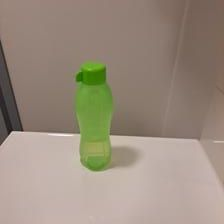bottle: (71, 61, 117, 170)
